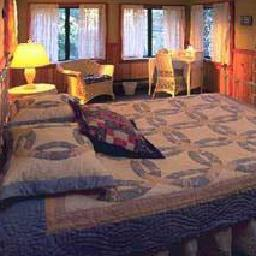Cama: (17, 94, 253, 248)
